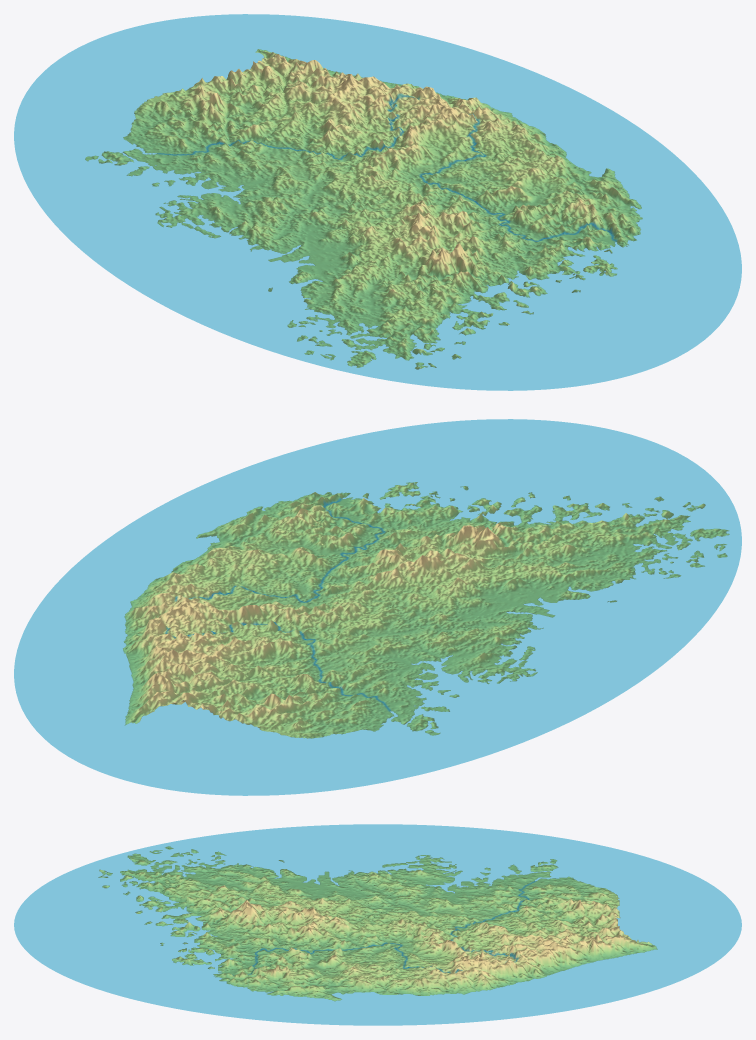
The model's file is KOR-terrain.glb.
3 views of the same model, one above another, from view 1: azimuth 30°, elevation 25°; view 2: azimuth 150°, elevation 25°; view 3: azimuth 270°, elevation 25° (orthographic). The views are drawn at different scales.
Parts seen in each view (by area): view 1: Relevo com hidrografia; view 2: Relevo com hidrografia; view 3: Relevo com hidrografia.
Part boxes in pixels (x1,y1,x2,y2): Relevo com hidrografia: [14, 14, 741, 390]; Relevo com hidrografia: [14, 419, 741, 795]; Relevo com hidrografia: [14, 824, 741, 1025].
Bounding box in the file's own units: 1.37 × 0.0543 × 2.09.
2 materials, 1 textured.
